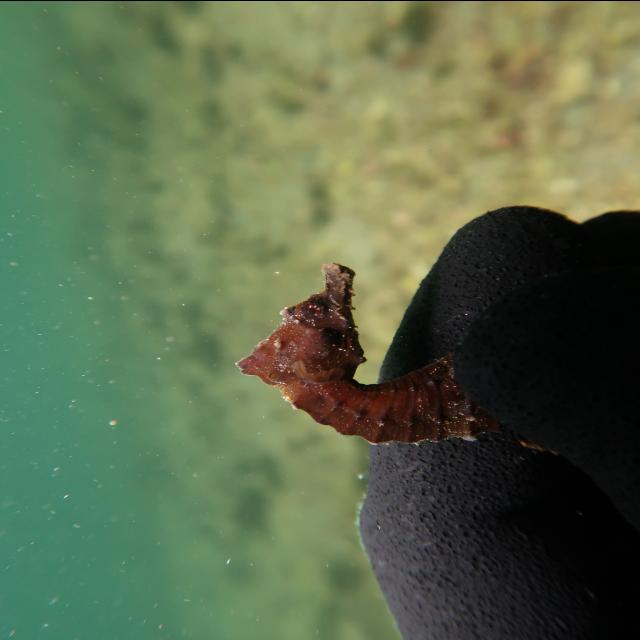Hippo: (227, 254, 369, 396)
